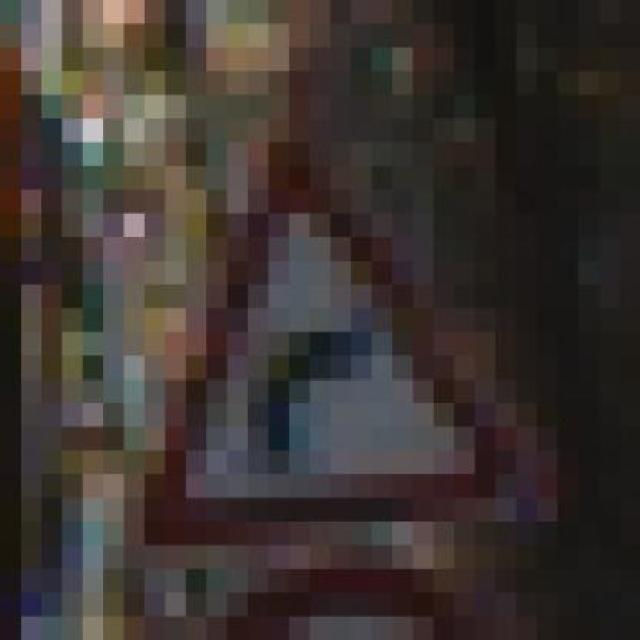Dangerous Rright Curve Ahead: (124, 118, 516, 545)
